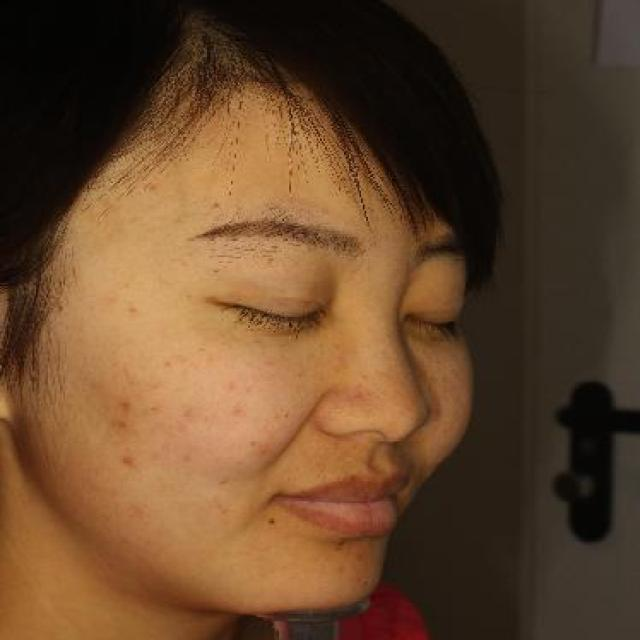darkspot: (103, 412, 142, 440), (171, 399, 199, 436), (243, 433, 276, 459), (228, 397, 253, 426), (175, 443, 199, 468), (110, 394, 139, 414), (214, 470, 234, 499), (120, 448, 144, 472), (141, 175, 163, 200), (221, 376, 243, 399), (127, 299, 140, 319)
